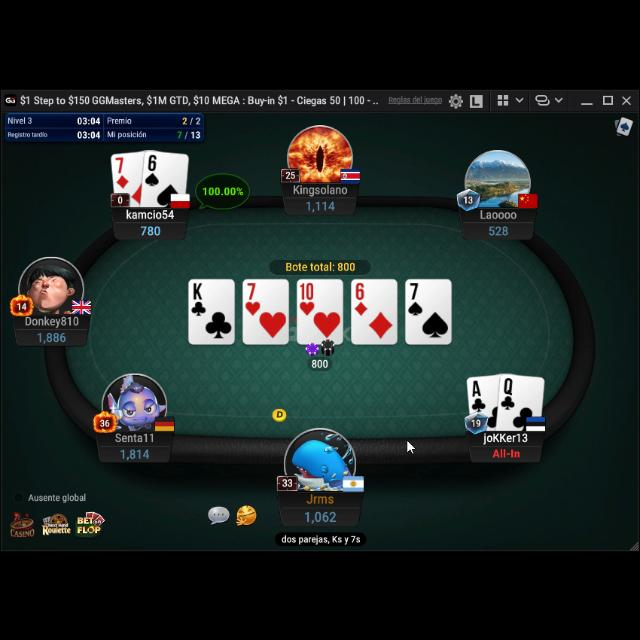6d: (353, 279, 369, 315)
6s: (143, 150, 161, 186)
7d: (115, 153, 132, 187)
7h: (244, 280, 262, 314)
7s: (406, 279, 424, 315)
Ac: (469, 376, 489, 410)
Ad: (115, 152, 132, 188)
Kc: (190, 278, 208, 316)
Ks: (406, 279, 424, 315)
Qc: (499, 374, 517, 410)
Td: (298, 280, 316, 314)
all_in_symbol: (492, 446, 520, 458)
bet_text: (310, 355, 330, 367)
dealer: (270, 404, 288, 420)
pot_text: (285, 258, 357, 270)
stack_text: (303, 506, 337, 522), (119, 444, 151, 458), (37, 328, 67, 342), (306, 196, 336, 210), (140, 221, 162, 235), (488, 222, 510, 234)
